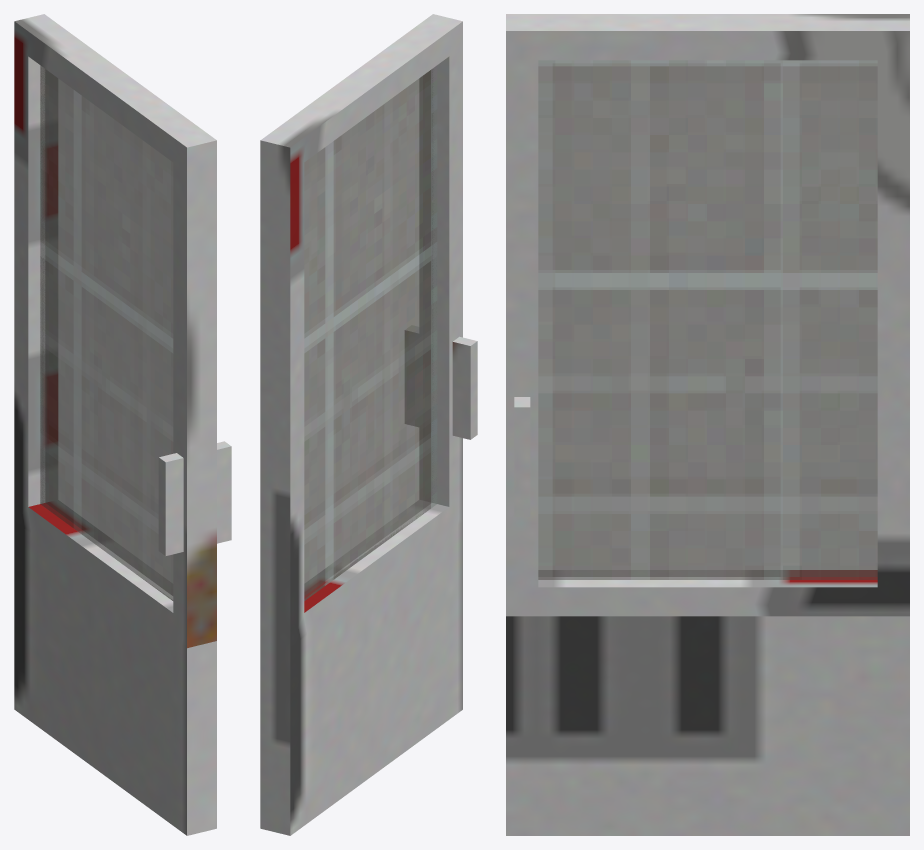
The model's file is Balcoony_door.fbx.
The picture shows the model from 3 angles, left to right: view 1: azimuth 30°, elevation 25°; view 2: azimuth 150°, elevation 25°; view 3: azimuth 270°, elevation 25°; orthographic projection. The views are drawn at different scales.
Parts seen in each view (by area): view 1: Balcoony_Door_Mesh, Balcoony_Door_Window, Balcoony_Door_Mesh3; view 2: Balcoony_Door_Mesh, Balcoony_Door_Window, Balcoony_Door_Mesh3; view 3: Balcoony_Door_Window, Balcoony_Door_Mesh, Balcoony_Door_Mesh3.
Part boxes in pixels (bbox=[...]): Balcoony_Door_Mesh: bbox=[14, 14, 216, 835]; Balcoony_Door_Window: bbox=[40, 65, 173, 600]; Balcoony_Door_Mesh3: bbox=[158, 441, 231, 555]; Balcoony_Door_Mesh: bbox=[260, 14, 462, 835]; Balcoony_Door_Window: bbox=[304, 65, 437, 600]; Balcoony_Door_Mesh3: bbox=[405, 325, 477, 439]; Balcoony_Door_Window: bbox=[538, 60, 877, 579]; Balcoony_Door_Mesh: bbox=[506, 14, 909, 835]; Balcoony_Door_Mesh3: bbox=[514, 397, 530, 516].
Bounding box in the file's own units: 22 × 220 × 100.
